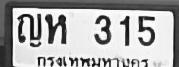1: (119, 15, 129, 45)
3: (93, 14, 110, 44)
5: (137, 15, 154, 45)
A13: (16, 12, 41, 43)
A41: (44, 13, 66, 43)
BKK: (36, 53, 150, 67)
